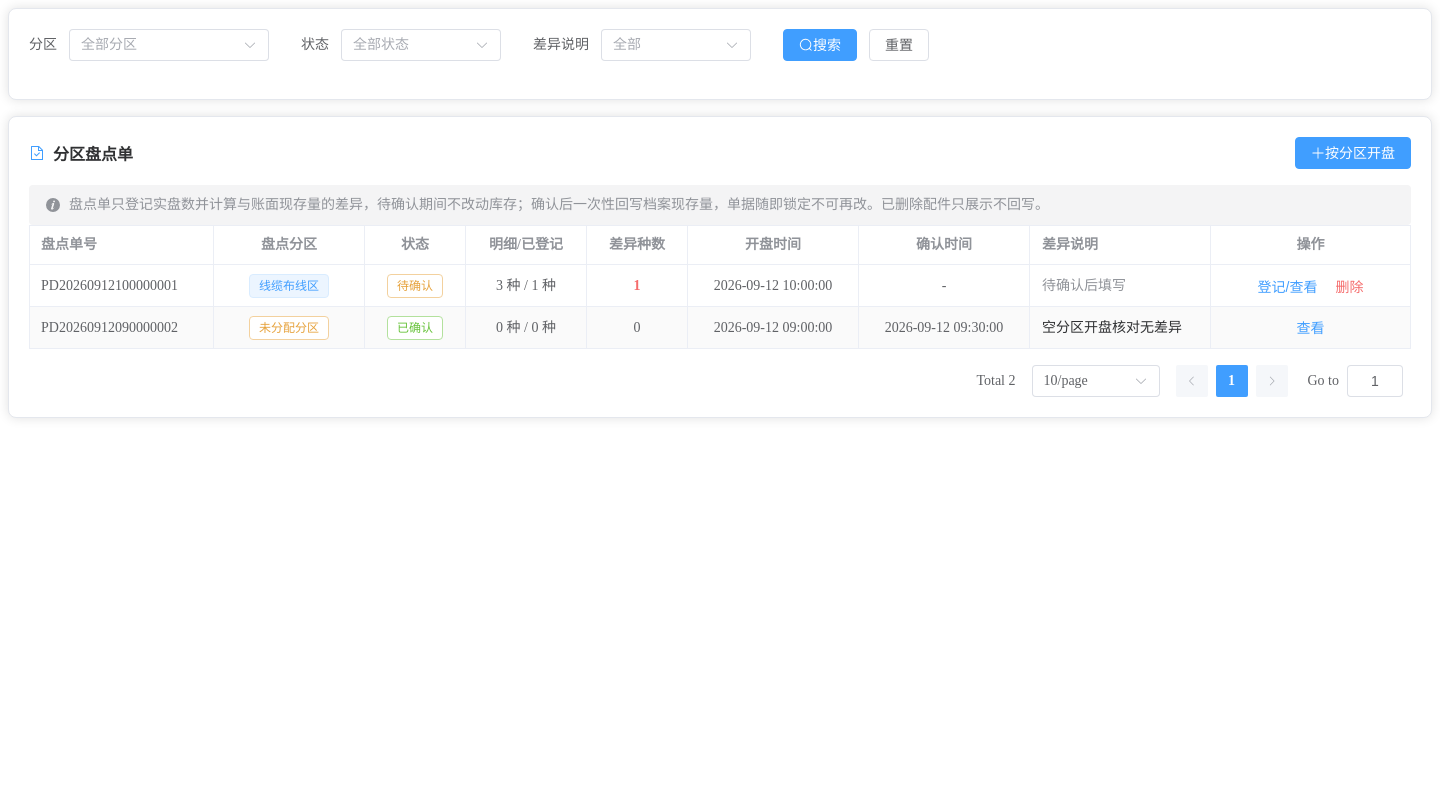
Scenario: 分区盘点 - 登记实盘与差异 › 录入新实盘数后差异实时重算（盘盈），未保存时确认按钮禁用
The width and height of the screenshot is (1440, 810).
Click the button "登记/查看" at [1287, 287], box [1254,277,1320,297]
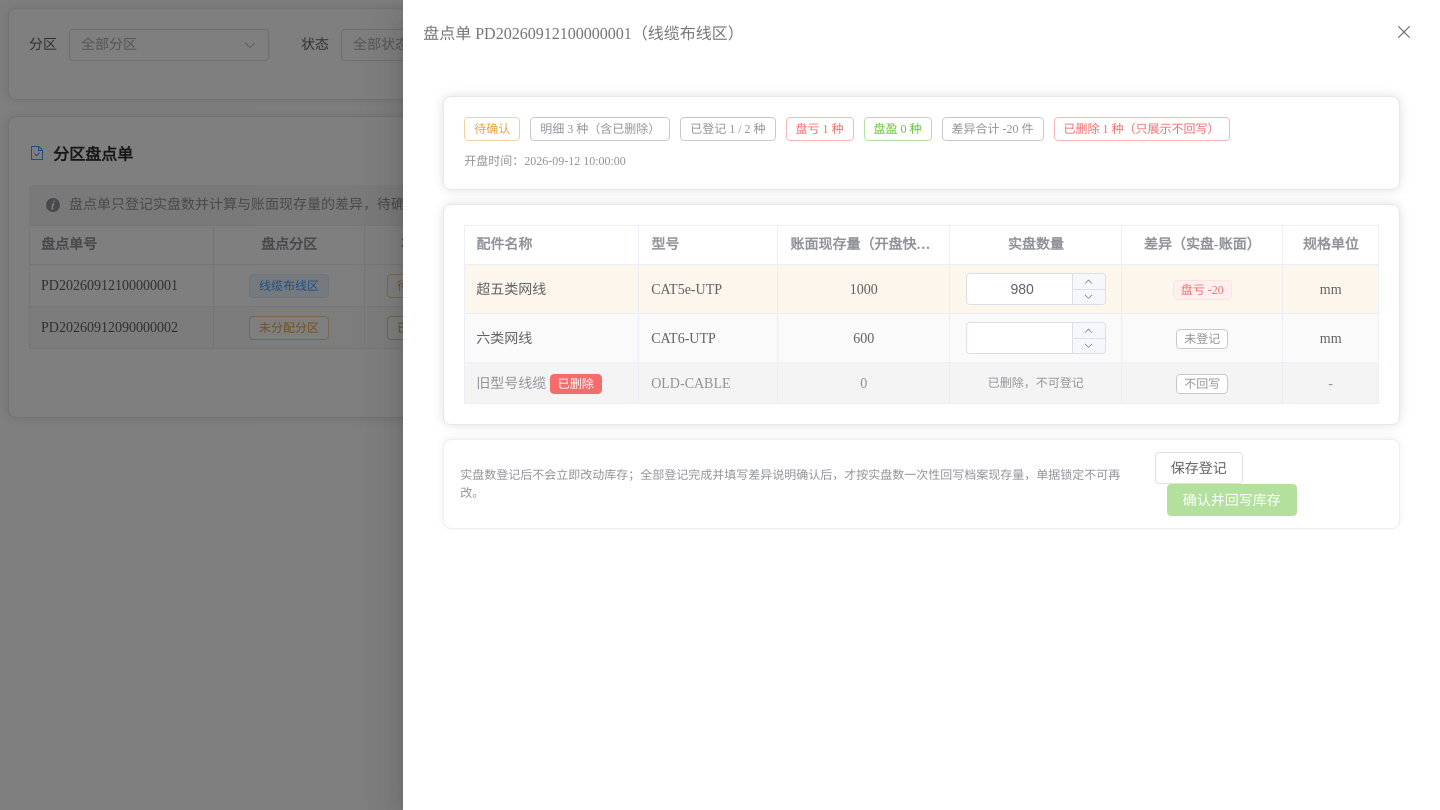
Expected: the number field in the row of "六类网线" is shown
Type "650" into the number field in the row of "六类网线" at [1022, 338], box [981,323,1064,353]
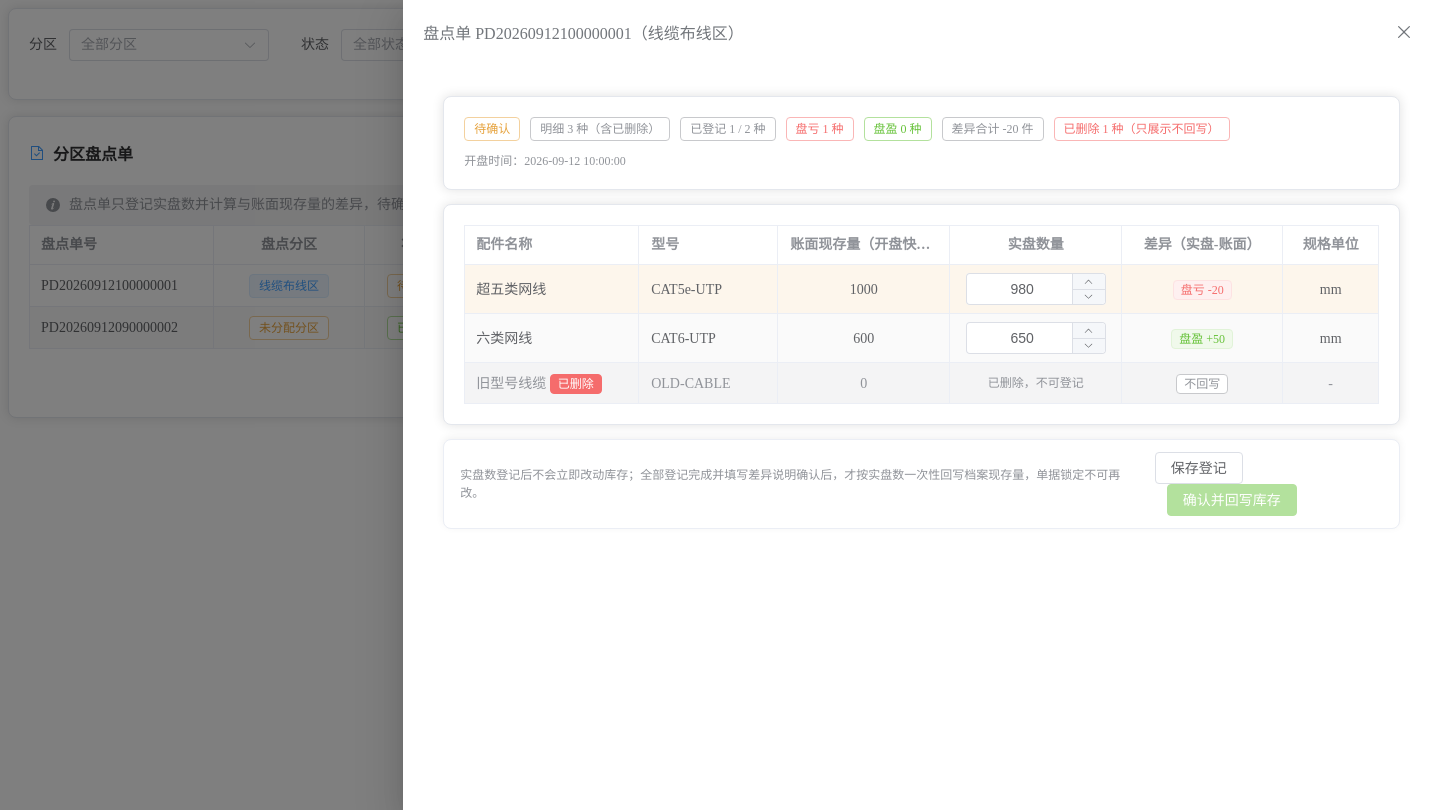
Expected: the button "确认并回写库存" is disabled, [1167,484,1297,516]
Expected: the row "六类网线 CAT6-UTP 600 盘盈 +50 mm" is shown, [464,314,1379,363]
